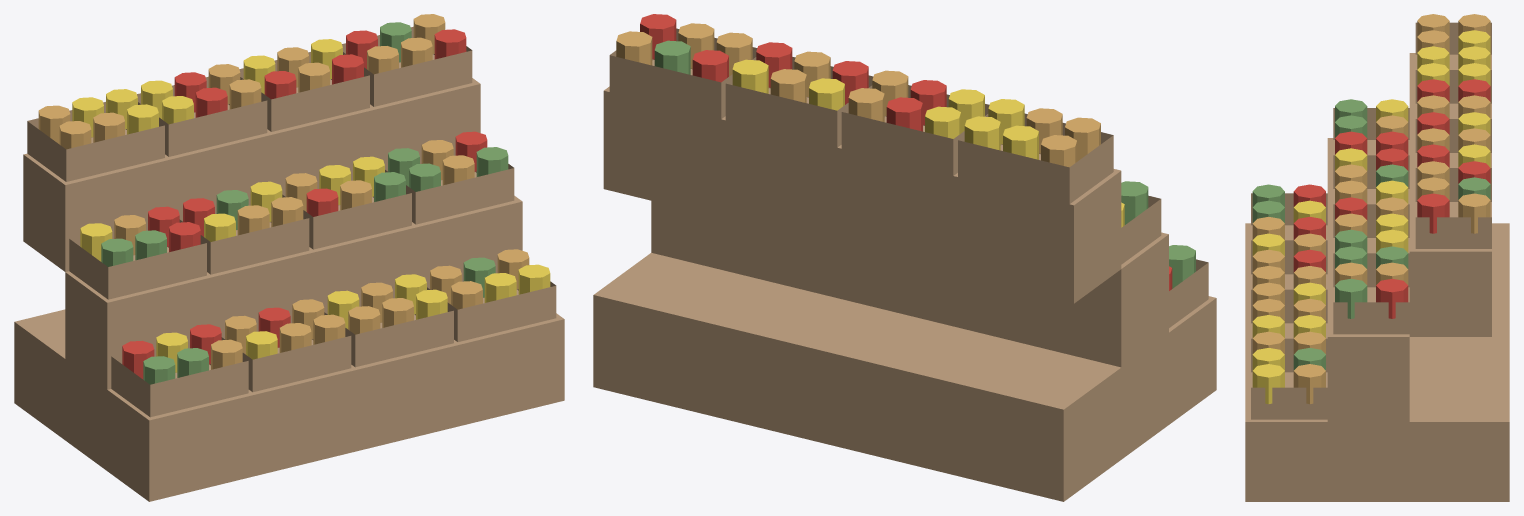
File: Fruit_Stand.fbx
The picture shows the model from 3 angles, left to right: view 1: azimuth 30°, elevation 25°; view 2: azimuth 150°, elevation 25°; view 3: azimuth 270°, elevation 25°; orthographic projection. The views are drawn at different scales.
Parts seen in each view (by area): view 1: Fruit_Stand; view 2: Fruit_Stand; view 3: Fruit_Stand.
Part boxes in pixels (bbox=[...]): Fruit_Stand: bbox=[14, 14, 564, 501]; Fruit_Stand: bbox=[593, 14, 1216, 501]; Fruit_Stand: bbox=[1245, 14, 1509, 501].
Size of the model in its own units: 1.6 by 1.1 by 0.9.
